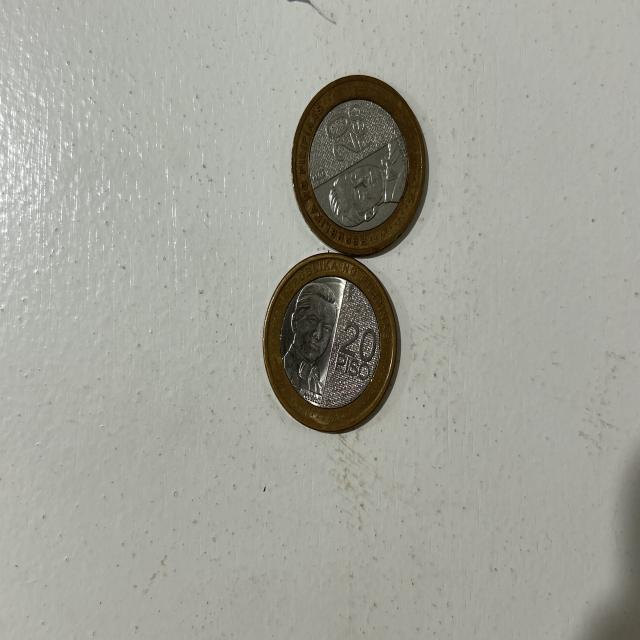20_New_Front: (324, 107, 357, 158), (337, 323, 379, 363)
